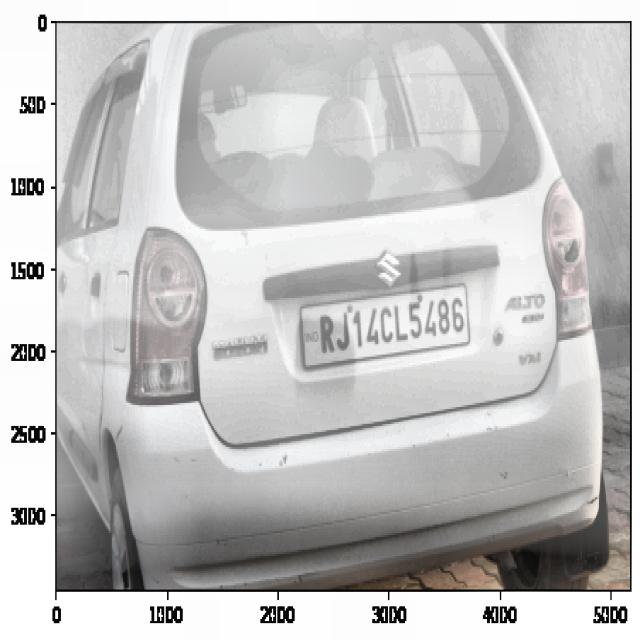license_plate: (312, 287, 470, 358)
